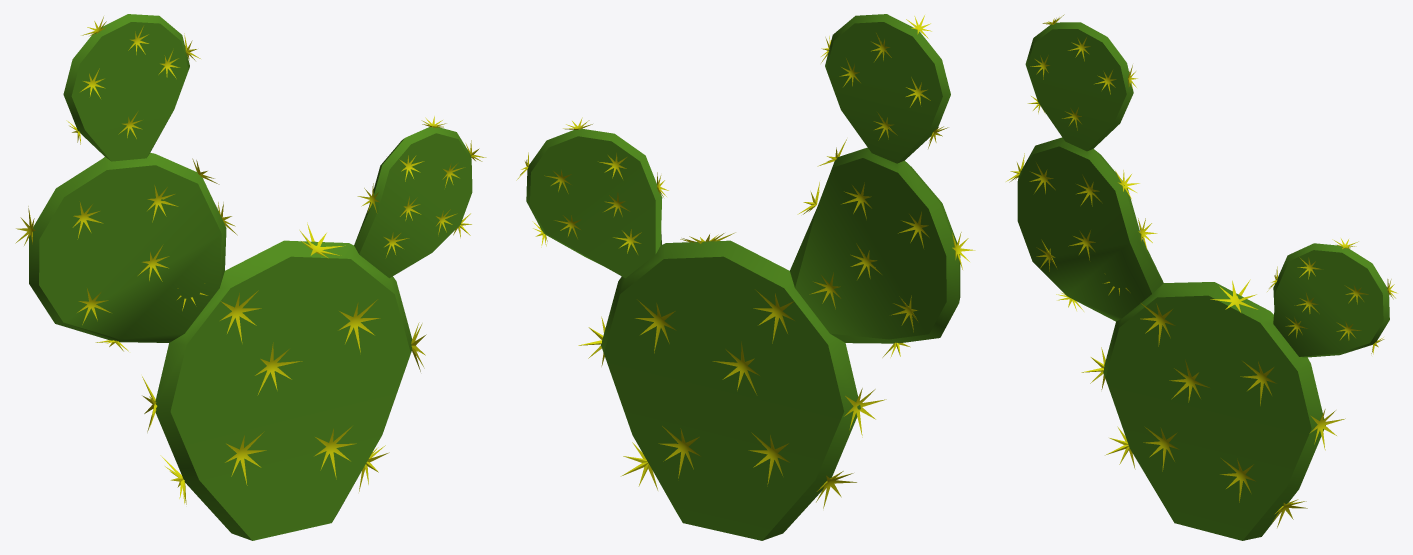
File: cactus01.glb
3 views of the same model, side by side, from view 1: azimuth 30°, elevation 25°; view 2: azimuth 150°, elevation 25°; view 3: azimuth 330°, elevation 25° (orthographic). The views are drawn at different scales.
Visible parts, largest first — view 1: Cactus_01; view 2: Cactus_01; view 3: Cactus_01.
Part boxes in pixels (left/top/right/bottom): Cactus_01: left=15, top=14, right=486, bottom=540; Cactus_01: left=516, top=14, right=975, bottom=540; Cactus_01: left=1006, top=14, right=1397, bottom=540.
Bounding box in the file's own units: 0.7631 × 0.8863 × 0.1198.
1 material, 1 textured.
